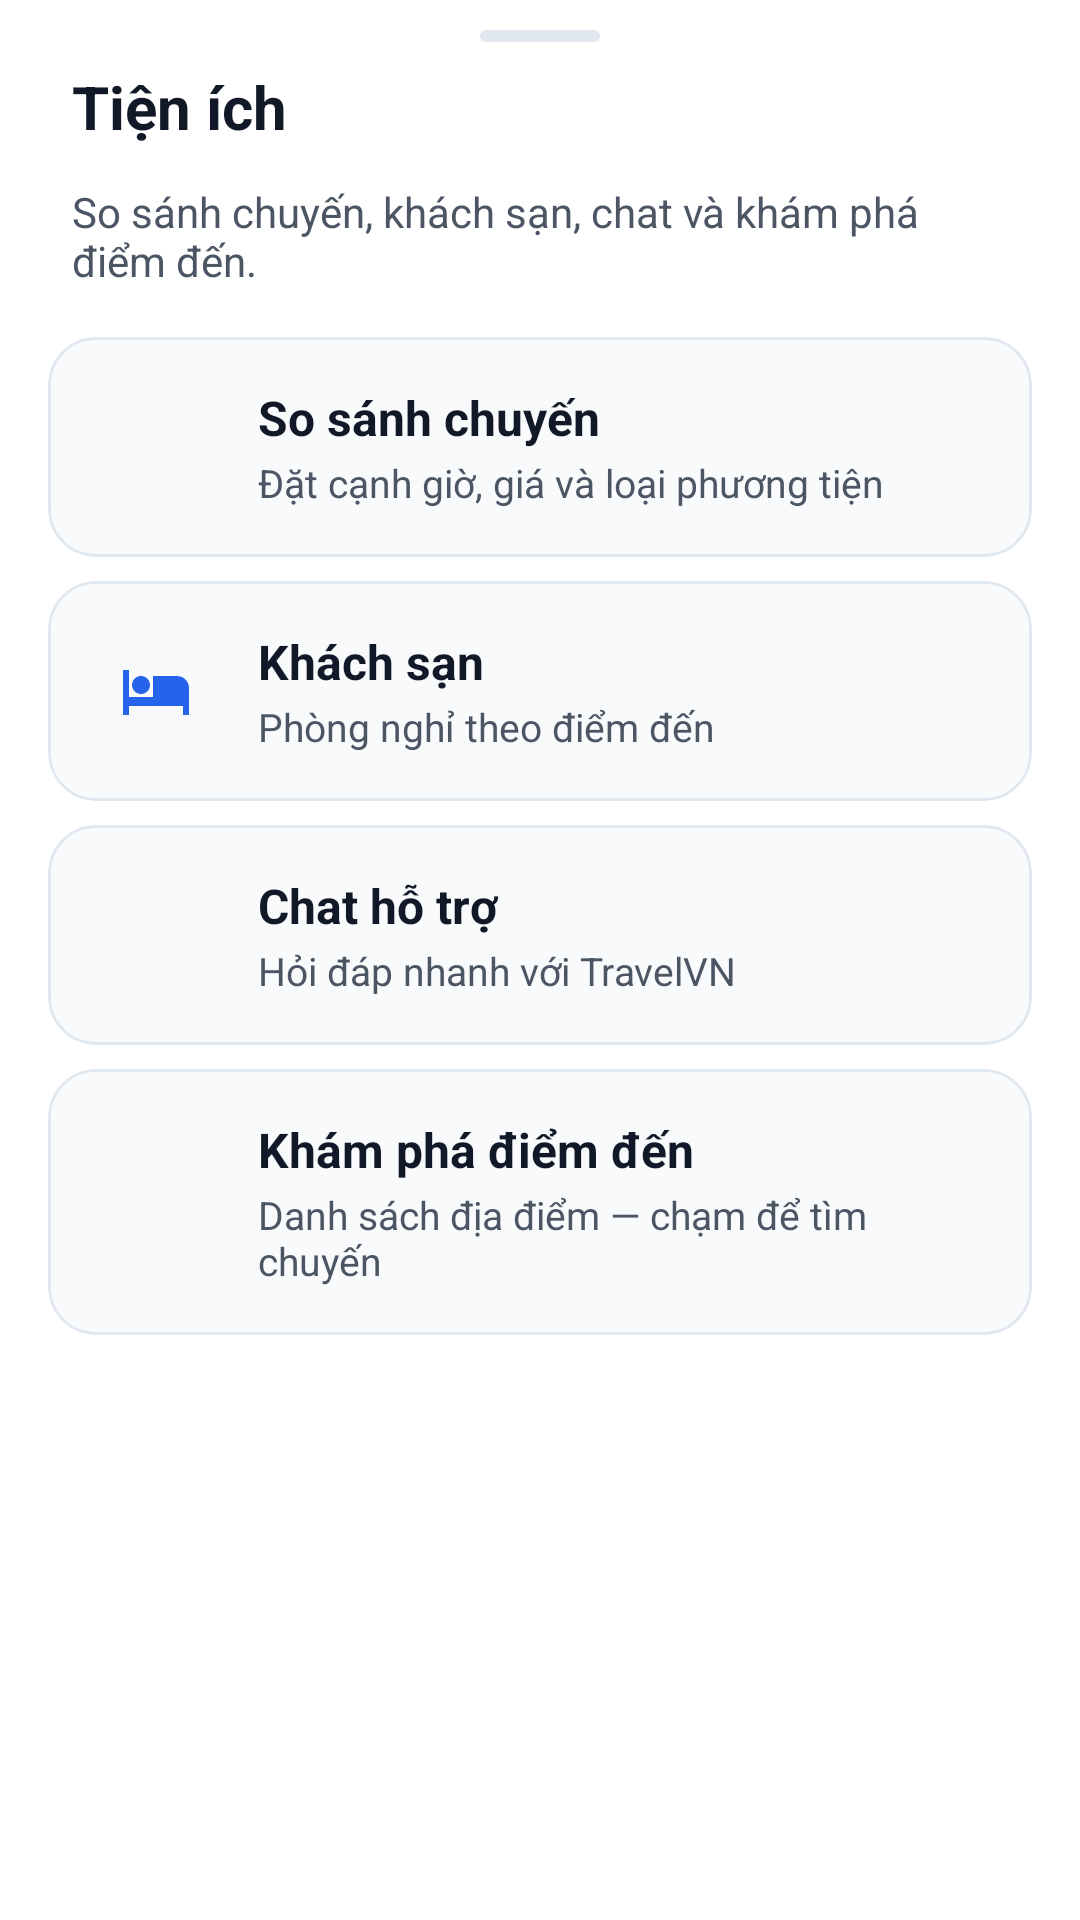

Where icons sit on this 1080px×1920px app screen, as [x1, y1, x2, y2]:
hotel: [123, 670, 189, 715]
